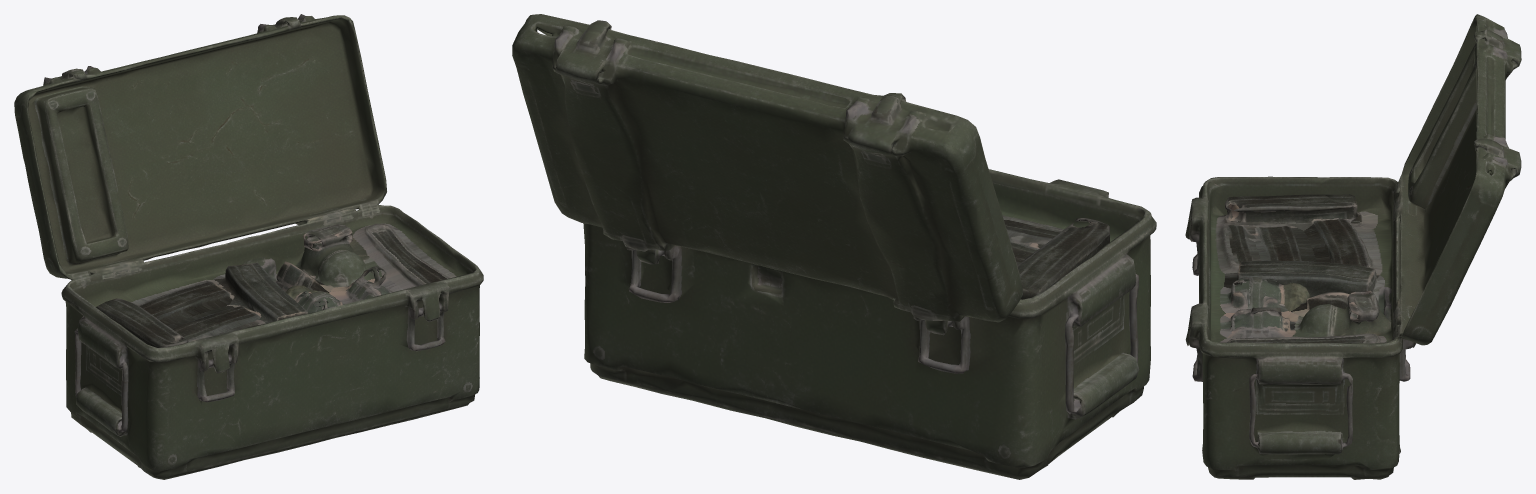
The model's file is prop_ammo.glb.
3 renders of one model, left to right at view 1: azimuth 30°, elevation 25°; view 2: azimuth 150°, elevation 25°; view 3: azimuth 270°, elevation 25°, orthographic. The views are drawn at different scales.
Size of the model in its own units: 0.9972 by 0.8095 by 0.7821.
Materials: 1 (1 with a texture image).
